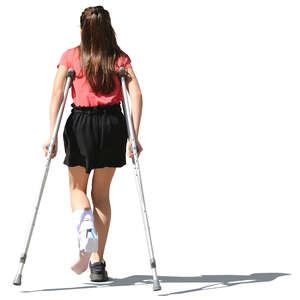crutches: (13, 5, 161, 291)
